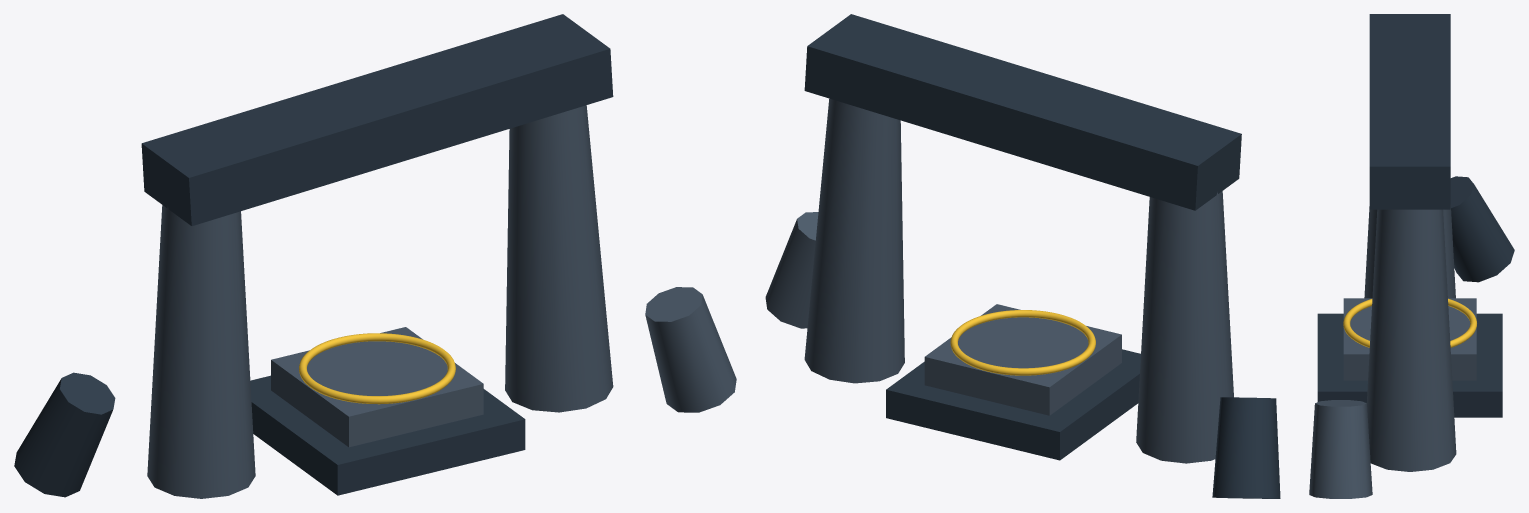
File: sunken-temple.gltf
3 renders of one model, left to right at view 1: azimuth 30°, elevation 25°; view 2: azimuth 150°, elevation 25°; view 3: azimuth 270°, elevation 25°, orthographic. The views are drawn at different scales.
Visible parts, largest first — view 1: SunkenTemple; view 2: SunkenTemple; view 3: SunkenTemple.
Part boxes in pixels (bbox=[...]): SunkenTemple: bbox=[14, 14, 736, 498]; SunkenTemple: bbox=[765, 14, 1280, 498]; SunkenTemple: bbox=[1309, 14, 1514, 498].
Size of the model in its own units: 10.71 by 5.97 by 3.56.
